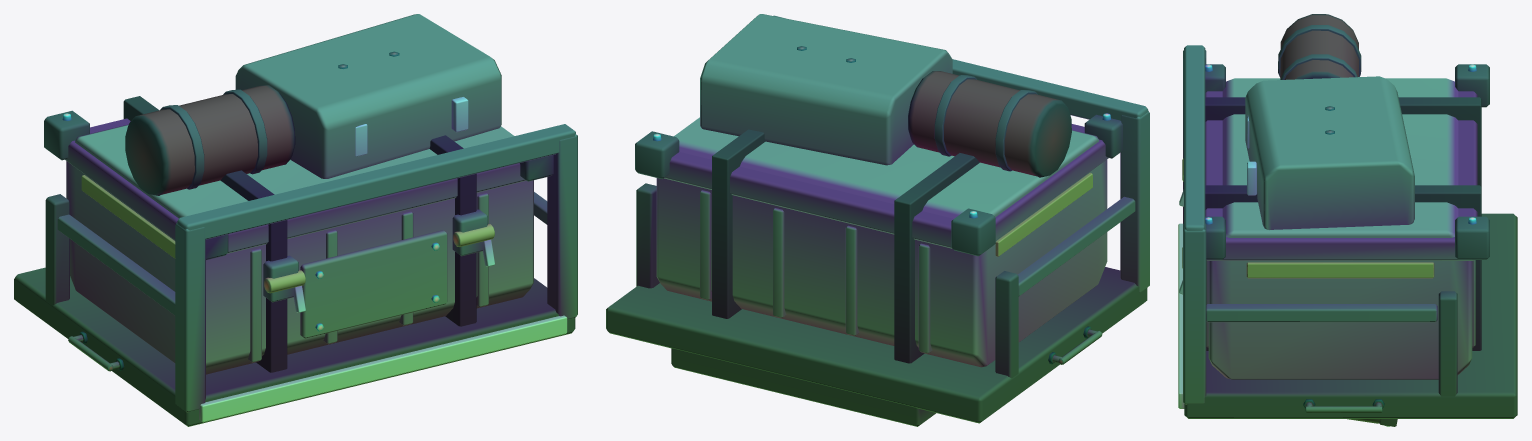
Rendered from back_cargo.glb.
3 renders of one model, left to right at view 1: azimuth 30°, elevation 25°; view 2: azimuth 150°, elevation 25°; view 3: azimuth 270°, elevation 25°, orthographic. The views are drawn at different scales.
Parts seen in each view (by area): view 1: Body__armor_sub, Body__armor, Body__gunmetal, Body__dark, Body__rubber, Body__hazard, Body__chrome, Body__accent, Body__brass; view 2: Body__armor, Body__dark, Body__armor_sub, Body__rubber, Body__gunmetal, Body__accent; view 3: Body__armor, Body__armor_sub, Body__dark, Body__gunmetal, Body__rubber, Body__accent, Body__hazard, Body__chrome.
Boxes of the visible parts, bbox=[...] form: Body__armor_sub: bbox=[65, 14, 526, 362]; Body__armor: bbox=[66, 124, 533, 374]; Body__gunmetal: bbox=[57, 52, 577, 412]; Body__dark: bbox=[14, 51, 575, 426]; Body__rubber: bbox=[123, 85, 476, 372]; Body__hazard: bbox=[199, 315, 567, 422]; Body__chrome: bbox=[62, 97, 494, 331]; Body__accent: bbox=[81, 175, 175, 258]; Body__brass: bbox=[264, 224, 494, 293]; Body__armor: bbox=[656, 117, 1107, 367]; Body__dark: bbox=[606, 46, 1147, 426]; Body__armor_sub: bbox=[664, 14, 1108, 353]; Body__rubber: bbox=[712, 71, 1071, 363]; Body__gunmetal: bbox=[773, 15, 1149, 364]; Body__accent: bbox=[995, 173, 1092, 256]; Body__armor: bbox=[1208, 78, 1472, 379]; Body__armor_sub: bbox=[1205, 76, 1477, 347]; Body__dark: bbox=[1184, 25, 1517, 426]; Body__gunmetal: bbox=[1183, 45, 1437, 423]; Body__rubber: bbox=[1205, 14, 1481, 350]; Body__accent: bbox=[1246, 262, 1434, 278]; Body__hazard: bbox=[1178, 223, 1184, 408]; Body__chrome: bbox=[1179, 64, 1476, 426].
Bounding box in the file's own units: 1.34 × 0.8577 × 0.977.
